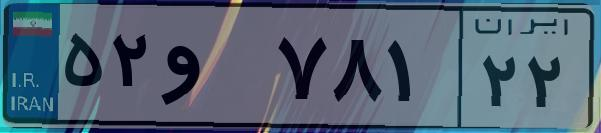1: (385, 28, 445, 110)
2: (475, 38, 525, 113), (525, 38, 570, 115), (110, 28, 158, 98)
5: (57, 26, 110, 100)
7: (270, 28, 330, 110)
8: (330, 28, 385, 110)
و: (158, 20, 270, 120)
